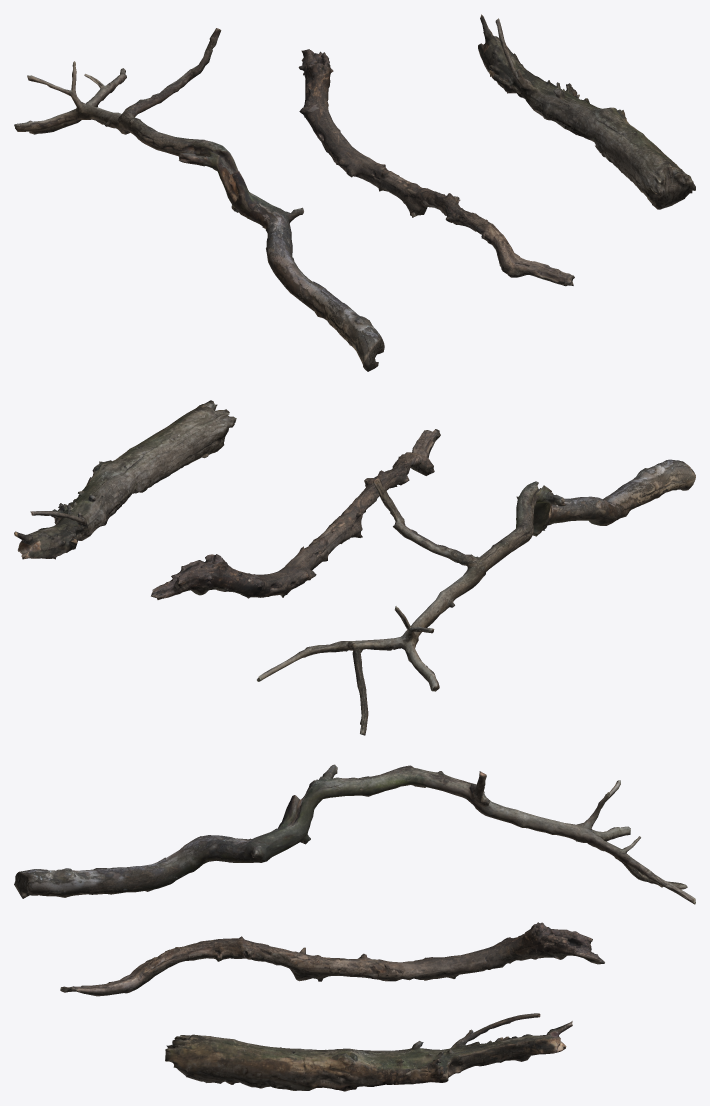
The model's file is dry_branches_medium_01.glb.
3 renders of one model, top to bottom at view 1: azimuth 30°, elevation 25°; view 2: azimuth 150°, elevation 25°; view 3: azimuth 270°, elevation 25°, orthographic. The views are drawn at different scales.
Parts seen in each view (by area): view 1: dry_branches_medium_01_a, dry_branches_medium_01_c, dry_branches_medium_01_b; view 2: dry_branches_medium_01_a, dry_branches_medium_01_c, dry_branches_medium_01_b; view 3: dry_branches_medium_01_a, dry_branches_medium_01_c, dry_branches_medium_01_b.
Part boxes in pixels (left/top/right/bottom): dry_branches_medium_01_a: left=14, top=28, right=384, bottom=371; dry_branches_medium_01_c: left=478, top=14, right=695, bottom=209; dry_branches_medium_01_b: left=298, top=49, right=574, bottom=286; dry_branches_medium_01_a: left=257, top=459, right=695, bottom=735; dry_branches_medium_01_c: left=14, top=400, right=236, bottom=559; dry_branches_medium_01_b: left=151, top=429, right=440, bottom=599; dry_branches_medium_01_a: left=14, top=764, right=695, bottom=904; dry_branches_medium_01_c: left=165, top=1013, right=572, bottom=1091; dry_branches_medium_01_b: left=60, top=922, right=604, bottom=996.
Bounding box in the file's own units: 1.06 × 0.341 × 1.3.
Materials: 1 (1 with a texture image).
